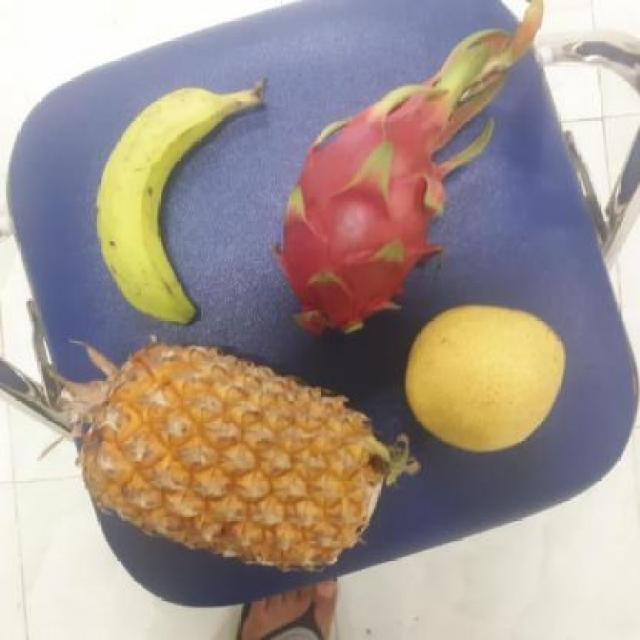banana: (92, 88, 255, 324)
dragon fruit: (263, 95, 459, 336)
pear: (399, 306, 566, 449)
pineapple: (81, 342, 387, 586)
